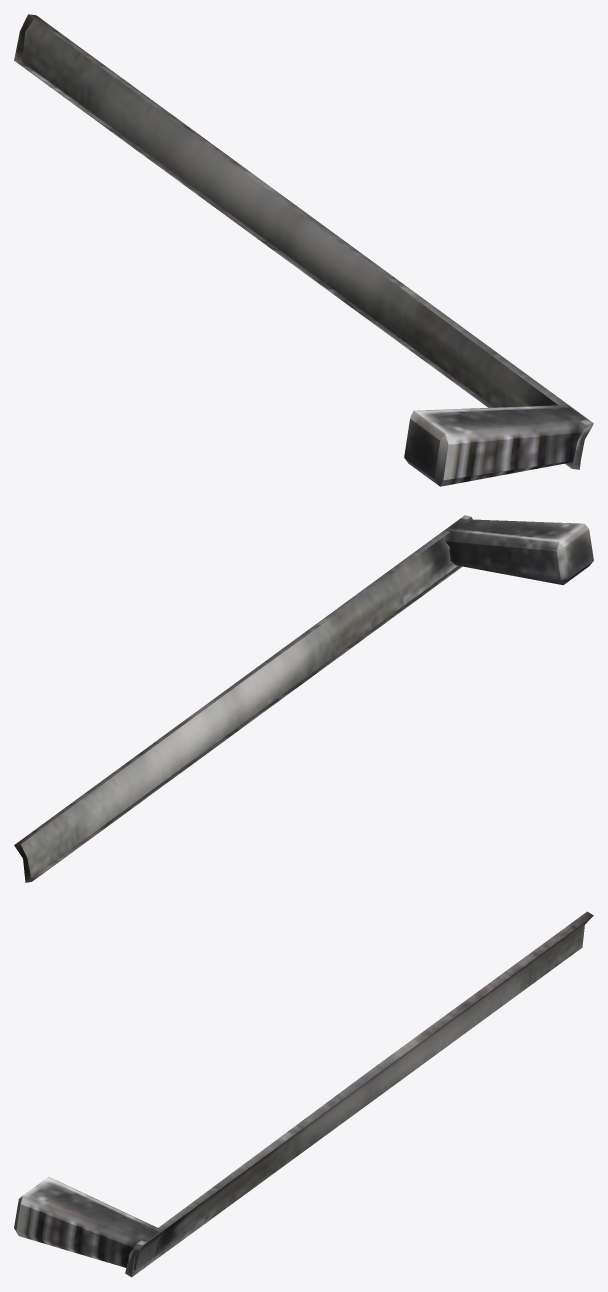
File: zatvor.obj
3 renders of one model, top to bottom at view 1: azimuth 30°, elevation 25°; view 2: azimuth 150°, elevation 25°; view 3: azimuth 330°, elevation 25°, orthographic. The views are drawn at different scales.
Visible parts, largest first — view 1: wpn34_vihlop; view 2: wpn34_vihlop; view 3: wpn34_vihlop.
Part boxes in pixels (x1=…): wpn34_vihlop: x1=14, y1=14, x2=593, y2=486; wpn34_vihlop: x1=14, y1=515, x2=593, y2=882; wpn34_vihlop: x1=14, y1=911, x2=593, y2=1277.
Bounding box in the file's own units: 0.0214 × 0.0088 × 0.1301.
1 material, 1 textured.
